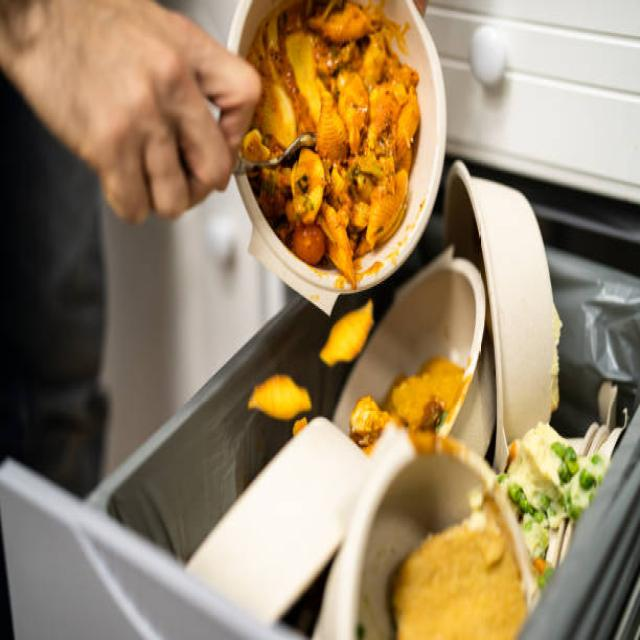plastic: (455, 160, 575, 453)
